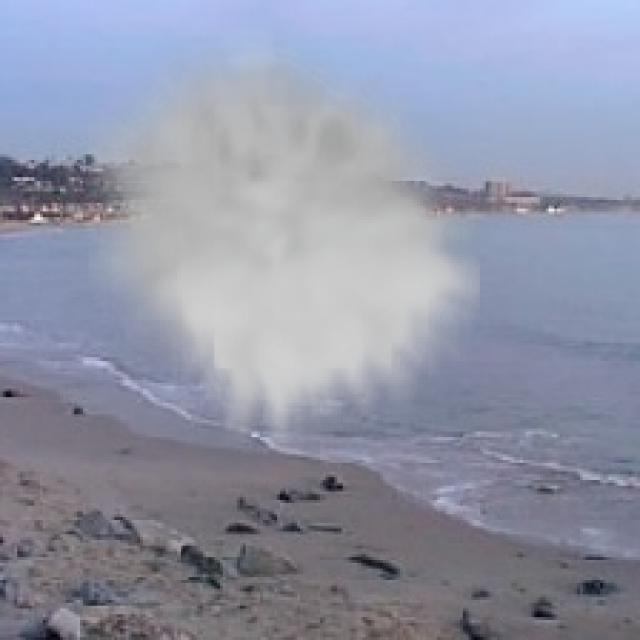smoke: (89, 29, 480, 448)
